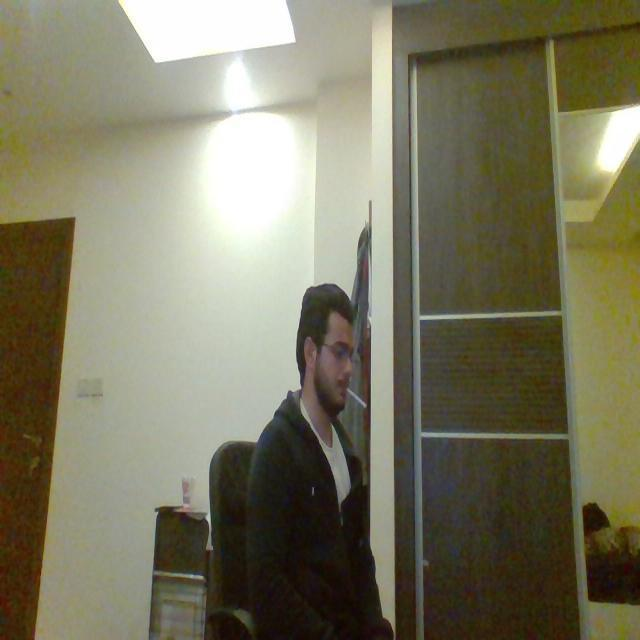smoking: (328, 377, 373, 415)
